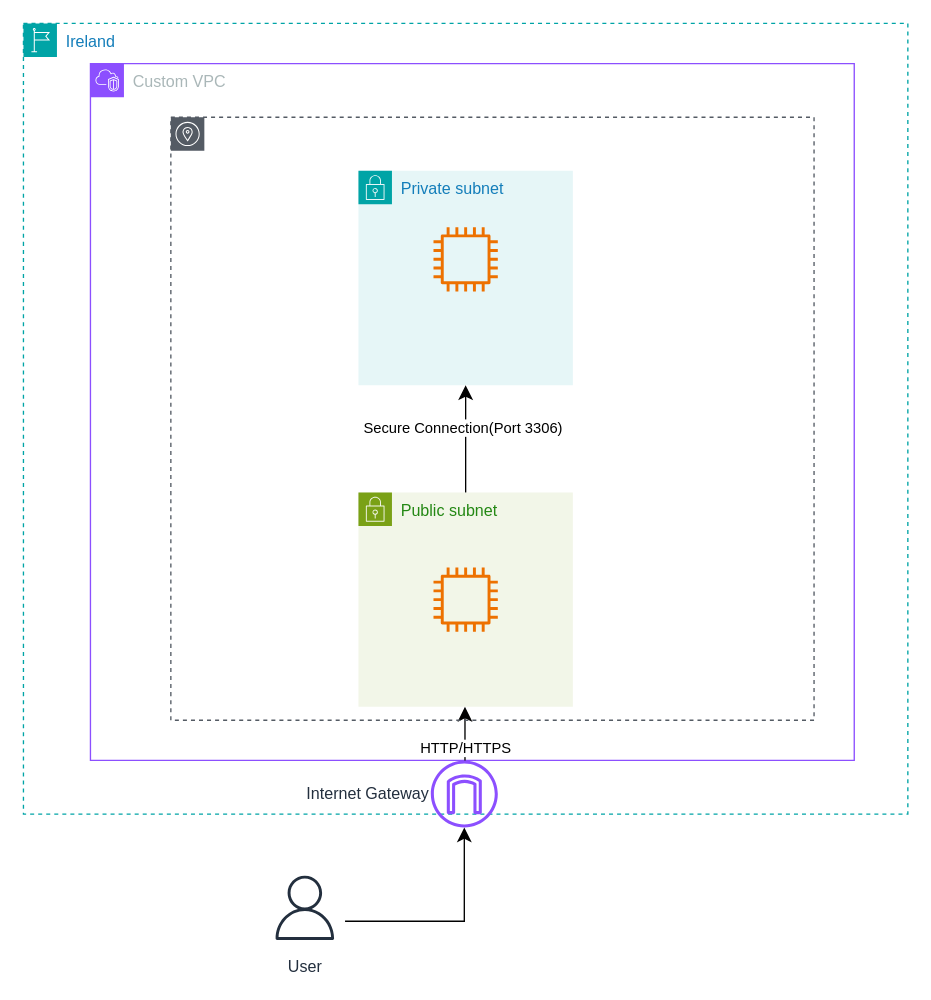
This 931x1000 diagram has some shape labels left out. Here are the shapes that lost their labels. From the top down, the box of each, then its label:
(433, 226, 497, 291): Database Server RDS MySql
(170, 116, 814, 720): eu-west-1a
(433, 567, 497, 631): Web Server EC2 Instance Apache + PHP
